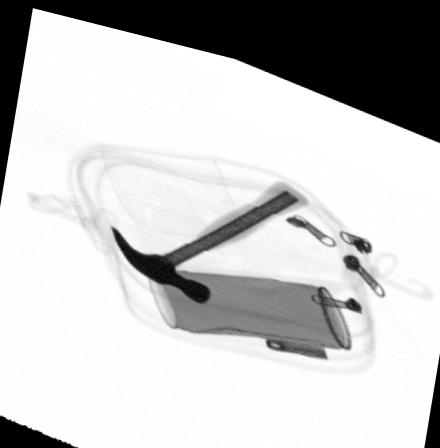Hammer: (110, 165, 311, 295)
